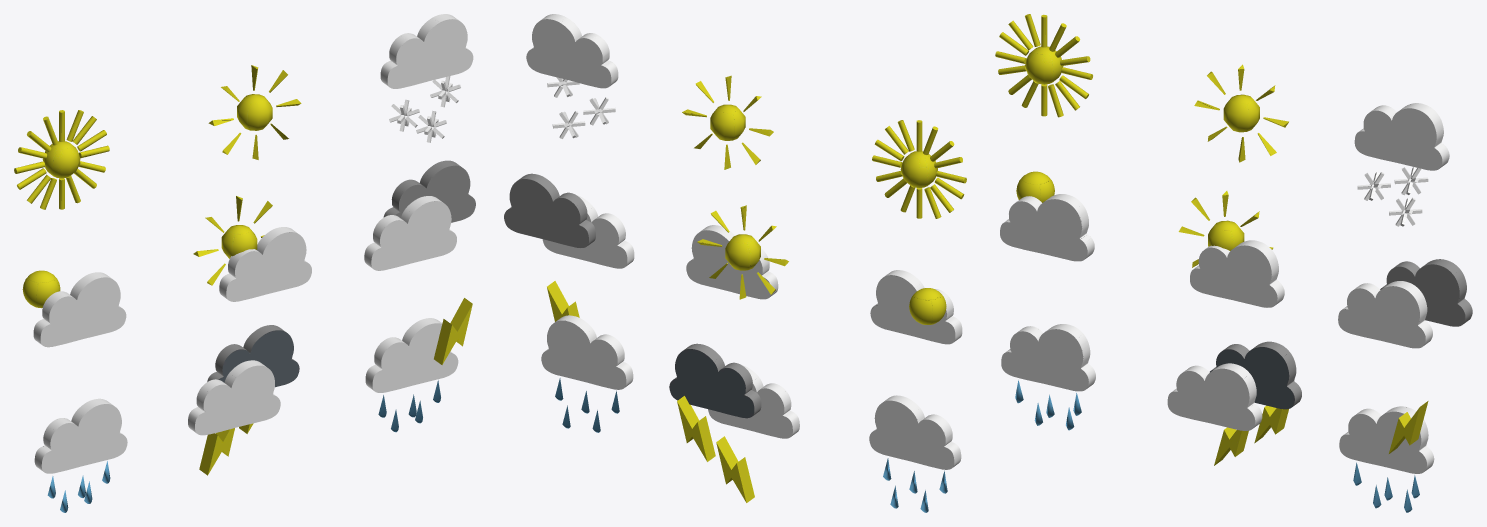
File: weather.c4d.fbx
3 views of the same model, side by side, from view 1: azimuth 30°, elevation 25°; view 2: azimuth 150°, elevation 25°; view 3: azimuth 330°, elevation 25° (orthographic). The views are drawn at different scales.
Parts seen in each view (by area): view 1: lighting, cloudly, sun_cloud, snow, rain_lighting, rain, cloud, sun, sun_2, sun_3; view 2: lighting, cloudly, rain_lighting, snow, sun_cloud, rain, sun, cloud, sun_2, sun_3; view 3: lighting, cloudly, snow, sun_cloud, rain_lighting, rain, cloud, sun, sun_2, sun_3.
Boxes of the visible parts, x1,y1,x2,y2 form: lighting: (188, 325, 299, 475); cloudly: (364, 160, 475, 270); sun_cloud: (193, 196, 311, 301); snow: (380, 14, 473, 142); rain_lighting: (365, 298, 472, 432); rain: (34, 398, 127, 512); cloud: (33, 272, 126, 347); sun: (14, 110, 109, 209); sun_2: (208, 65, 301, 159); sun_3: (22, 270, 60, 308); lighting: (669, 343, 799, 502); cloudly: (504, 173, 634, 268); rain_lighting: (541, 281, 633, 432); snow: (526, 14, 618, 138); sun_cloud: (686, 205, 788, 299); rain: (869, 395, 961, 512); sun: (872, 120, 966, 218); cloud: (870, 270, 962, 344); sun_2: (682, 75, 773, 169); sun_3: (909, 288, 946, 324); lighting: (1167, 341, 1301, 465); cloudly: (1338, 259, 1472, 348); snow: (1354, 103, 1449, 226); sun_cloud: (1178, 191, 1284, 307); rain_lighting: (1339, 401, 1434, 512); rain: (1001, 324, 1095, 430); cloud: (1000, 194, 1094, 261); sun: (995, 14, 1092, 117); sun_2: (1194, 64, 1288, 162); sun_3: (1016, 171, 1054, 202).
Bounding box in the file's own units: 122 × 106 × 18.6.
10 materials, 10 textured.
